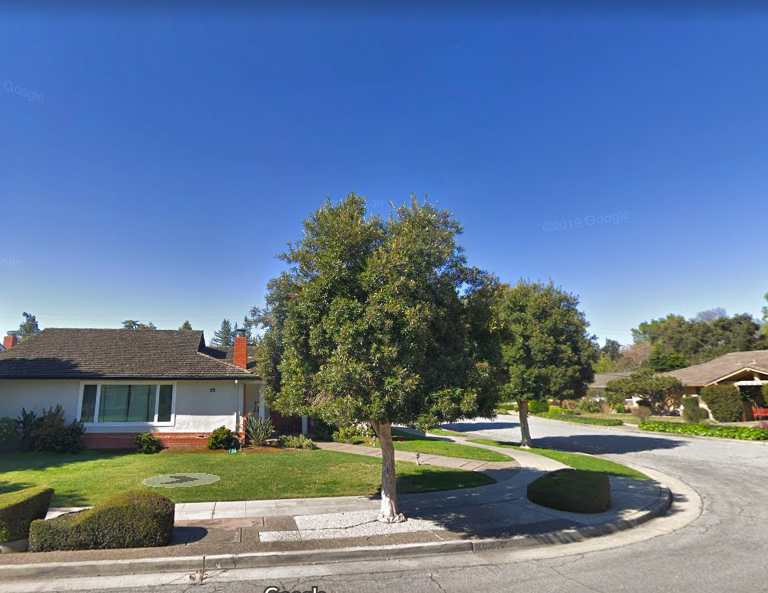tree: (255, 189, 491, 523), (483, 275, 600, 447)
